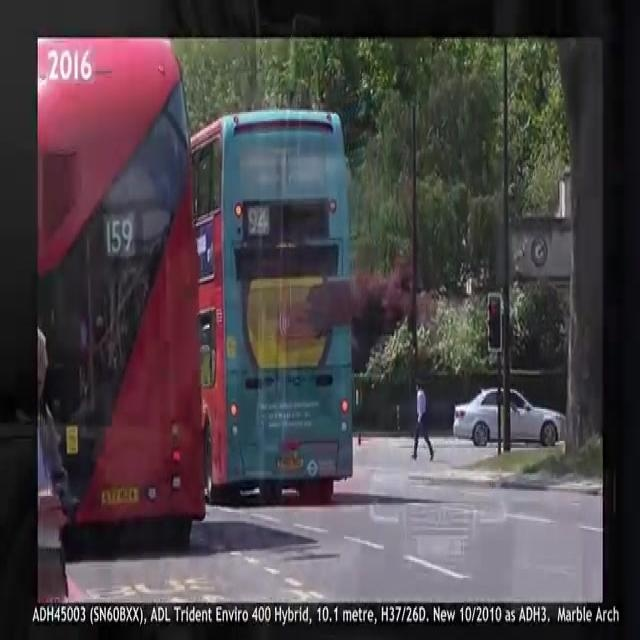Bus: (35, 55, 208, 571), (194, 122, 361, 490)
